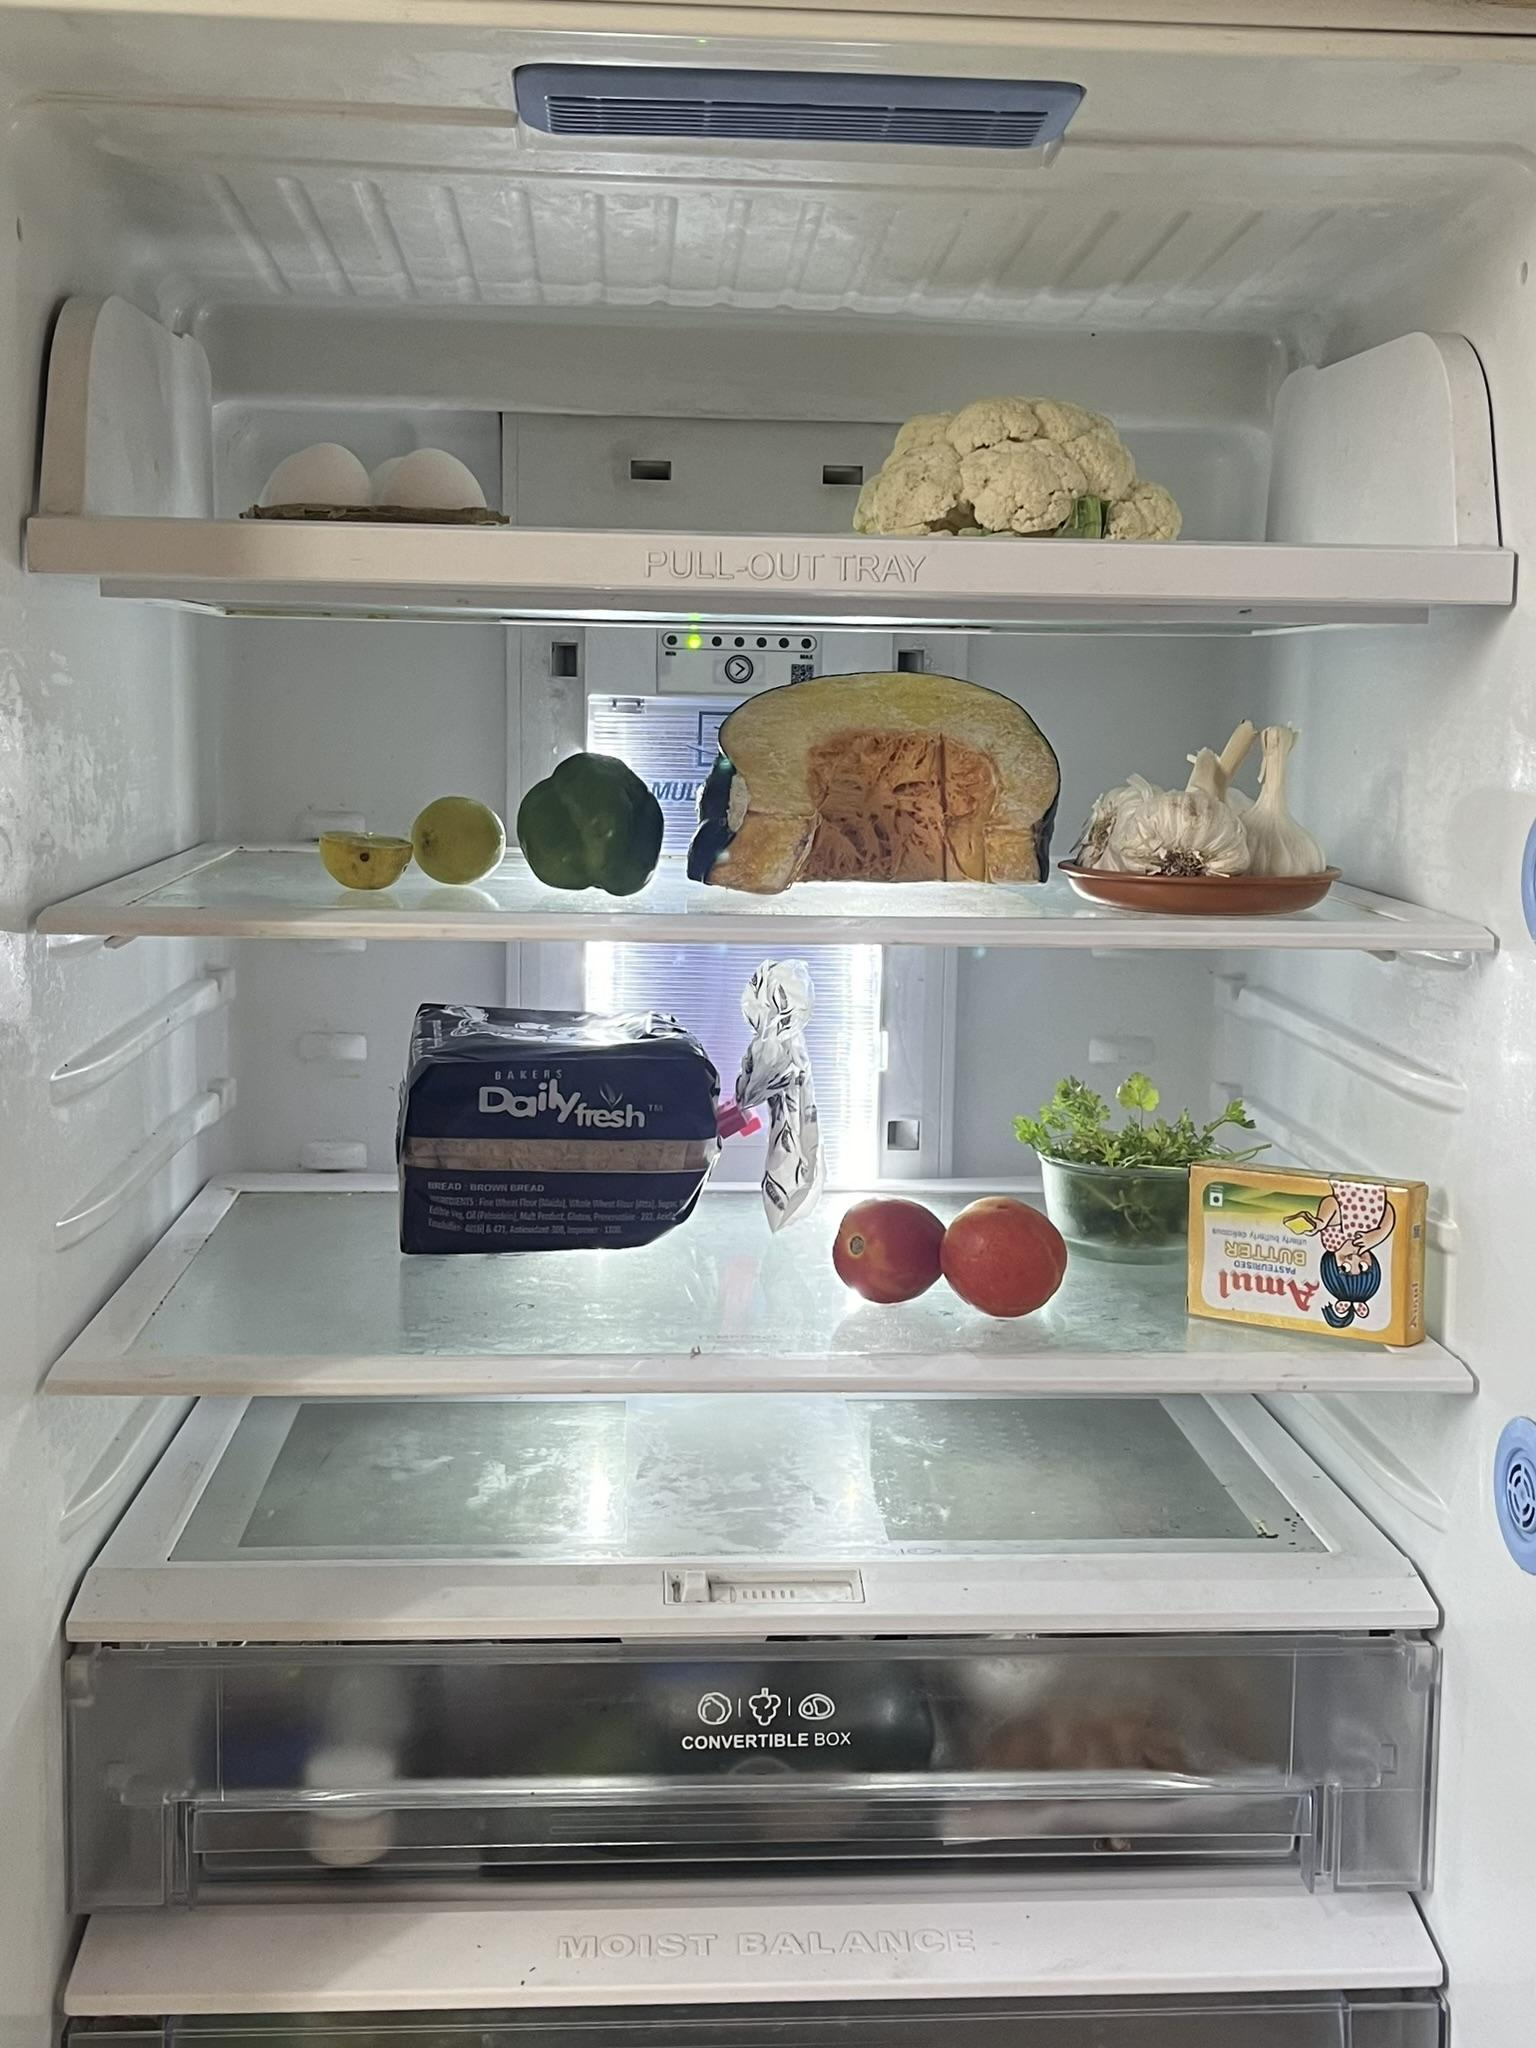bread: (397, 963, 813, 1250)
butter: (1183, 1163, 1436, 1350)
capsicum: (513, 743, 676, 897)
cauliflower: (847, 390, 1197, 543)
coriander: (1010, 1063, 1263, 1247)
egg: (240, 431, 503, 524)
garlic: (1087, 710, 1341, 897)
lemon: (297, 787, 520, 900)
pumpkin: (684, 669, 1066, 897)
tomato: (820, 1187, 1079, 1316)
